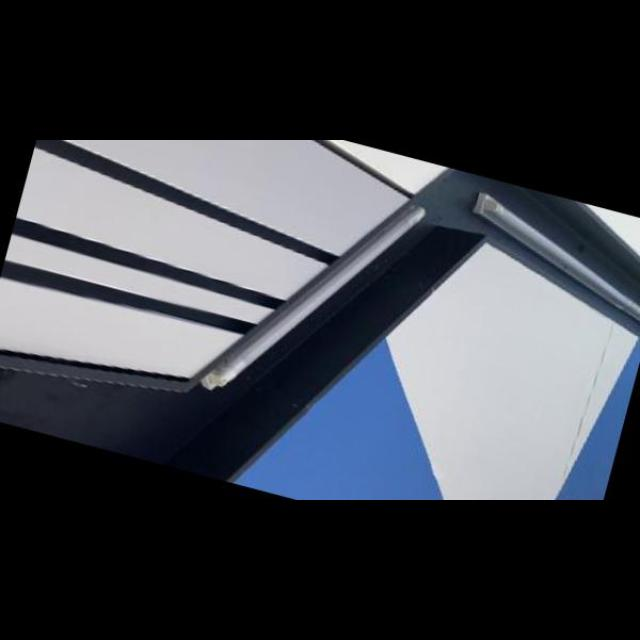Straight-Tube-Fluorescent-Lamp: (184, 143, 436, 441), (436, 173, 640, 375)
